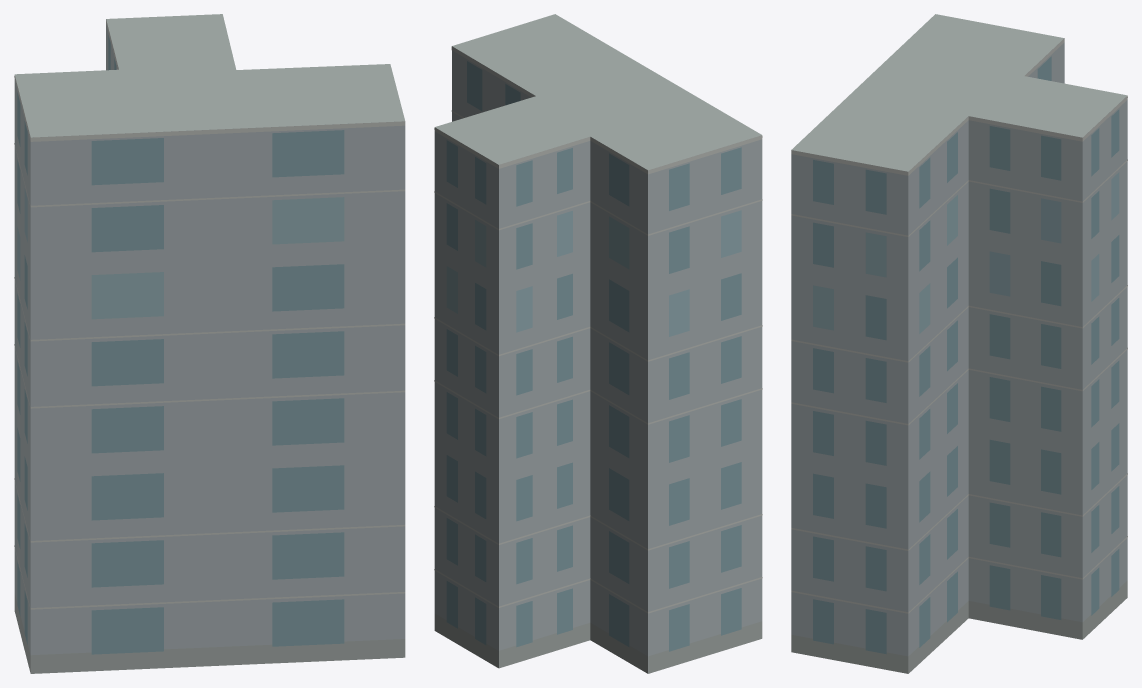
Rendered from survey-upis-32921817.glb.
The picture shows the model from 3 angles, left to right: view 1: azimuth 30°, elevation 25°; view 2: azimuth 150°, elevation 25°; view 3: azimuth 270°, elevation 25°; orthographic projection. The views are drawn at different scales.
Parts seen in each view (by area): view 1: survey-upis-32921817.tmp; view 2: survey-upis-32921817.tmp; view 3: survey-upis-32921817.tmp.
Boxes of the visible parts, bbox=[...] form: survey-upis-32921817.tmp: bbox=[14, 14, 405, 673]; survey-upis-32921817.tmp: bbox=[434, 14, 762, 673]; survey-upis-32921817.tmp: bbox=[791, 14, 1127, 673].
Bounding box in the file's own units: 20.16 × 29.9 × 18.18.
